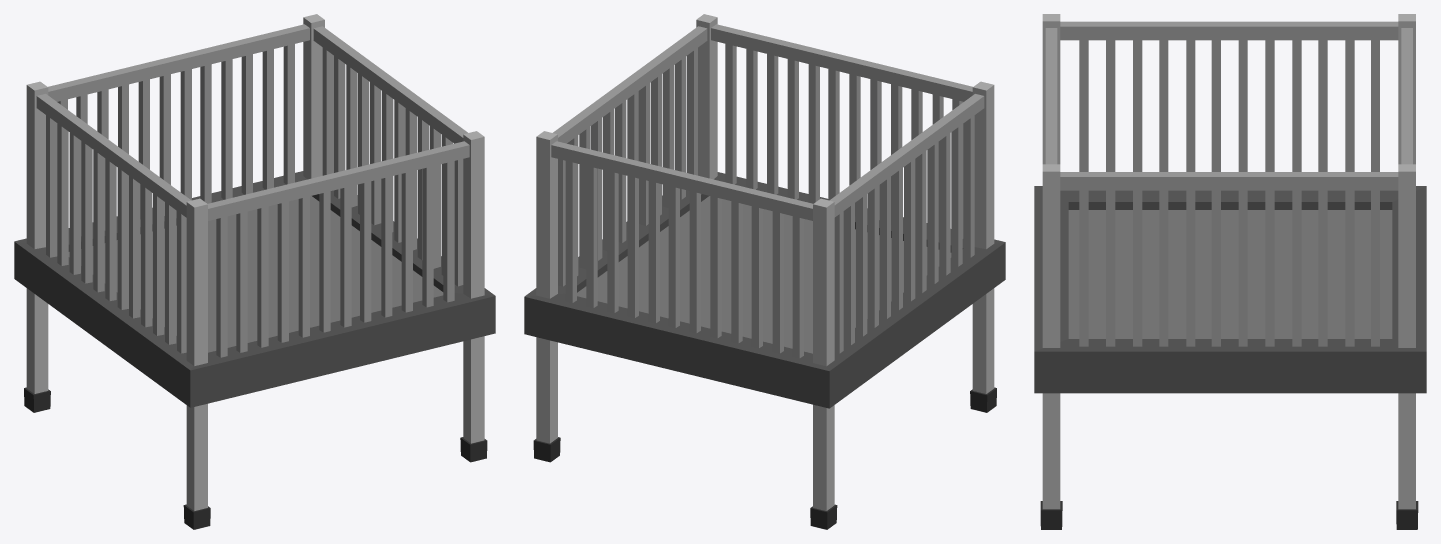
File: Convenience Bin Mesh.fbx
The picture shows the model from 3 angles, left to right: view 1: azimuth 30°, elevation 25°; view 2: azimuth 150°, elevation 25°; view 3: azimuth 270°, elevation 25°; orthographic projection. The views are drawn at different scales.
Parts seen in each view (by area): view 1: Convenience Bin Mesh; view 2: Convenience Bin Mesh; view 3: Convenience Bin Mesh.
Boxes of the visible parts, left/top/right/bottom form: Convenience Bin Mesh: left=14, top=14, right=495, bottom=529; Convenience Bin Mesh: left=524, top=14, right=1005, bottom=529; Convenience Bin Mesh: left=1034, top=14, right=1426, bottom=529.
Size of the model in its own units: 81.08 by 81.56 by 81.08.
Materials: 1 (1 with a texture image).
